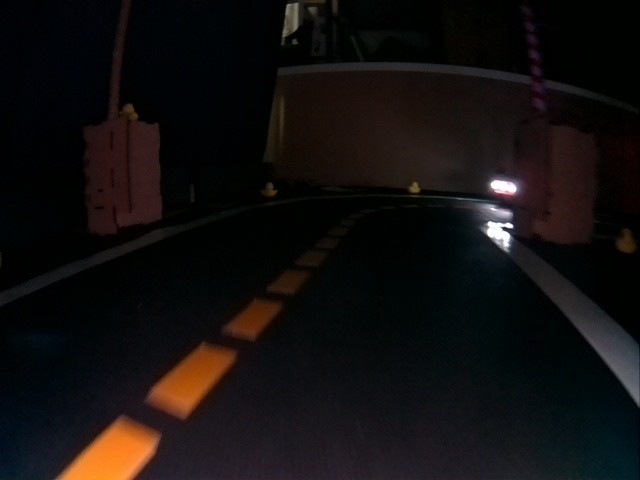Duckie: (618, 227, 636, 254), (261, 182, 276, 198), (124, 104, 139, 120), (408, 182, 419, 194)
Duckiebot: (490, 177, 519, 203)
